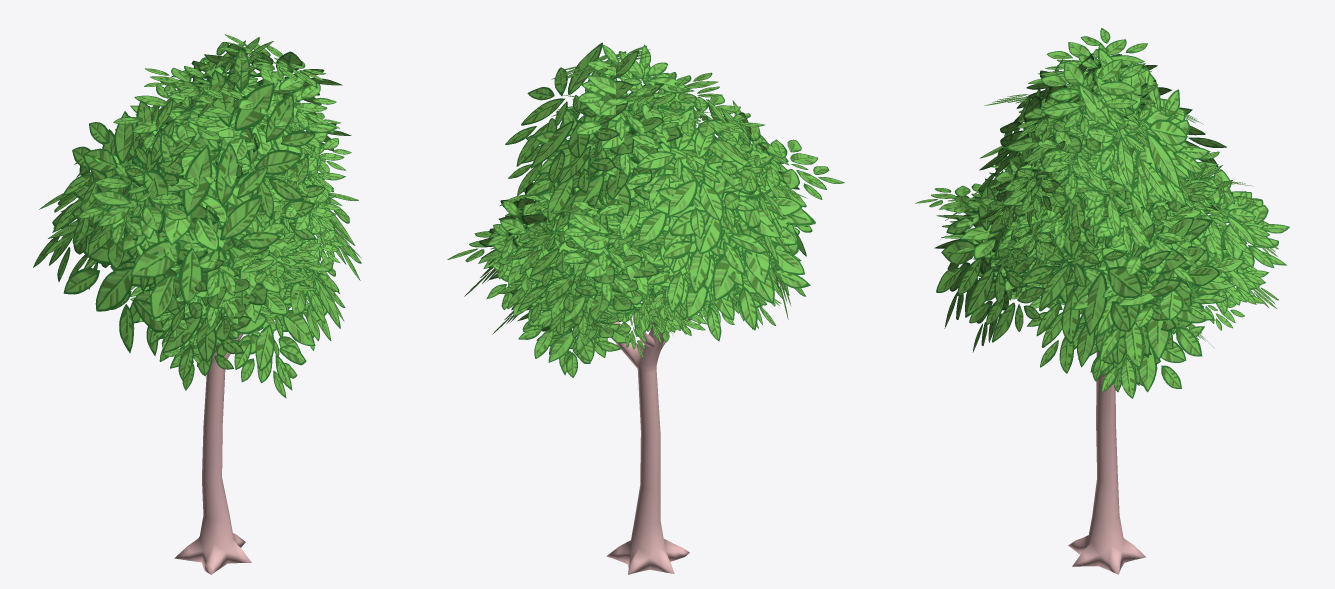
File: Tree2.fbx
3 renders of one model, left to right at view 1: azimuth 30°, elevation 25°; view 2: azimuth 150°, elevation 25°; view 3: azimuth 270°, elevation 25°, orthographic. The views are drawn at different scales.
Parts seen in each view (by area): view 1: Tree_7_Leaf78; view 2: Tree_7_Leaf78; view 3: Tree_7_Leaf78.
Part boxes in pixels (bbox=[...]): Tree_7_Leaf78: bbox=[33, 34, 361, 574]; Tree_7_Leaf78: bbox=[447, 42, 844, 574]; Tree_7_Leaf78: bbox=[915, 28, 1289, 574].
Bounding box in the file's own units: 14.57 × 19.72 × 14.07.
